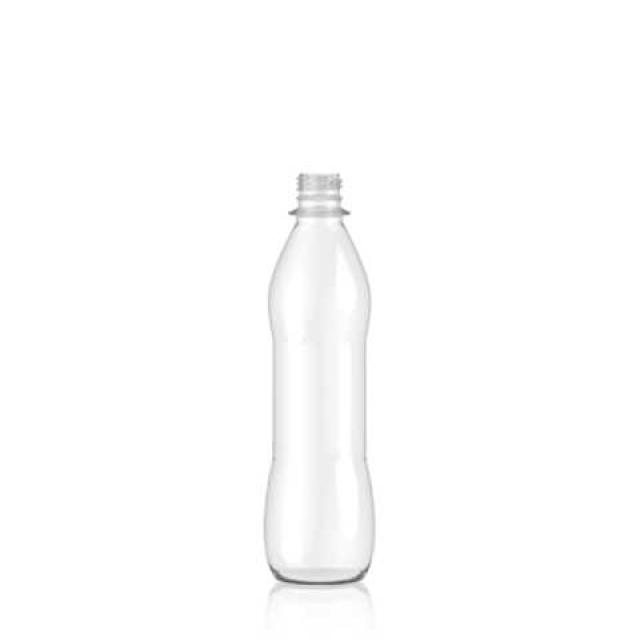bottom: (265, 456, 374, 583)
neck: (270, 189, 369, 332)
